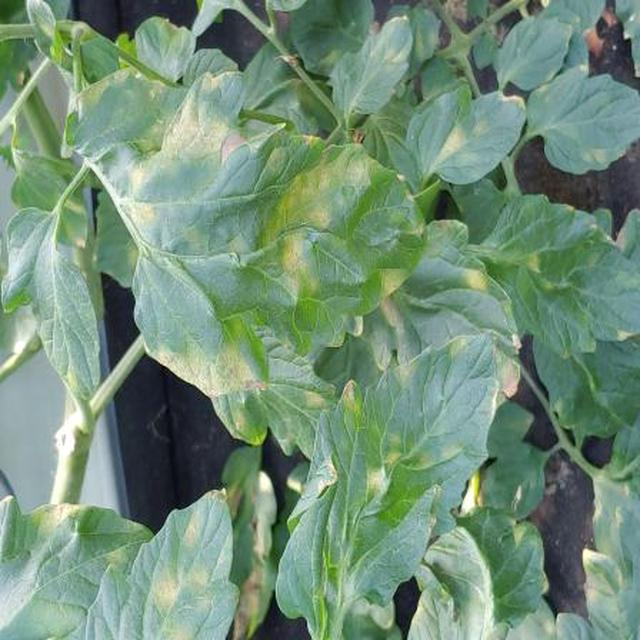Leaf Mold: (176, 141, 640, 640)
